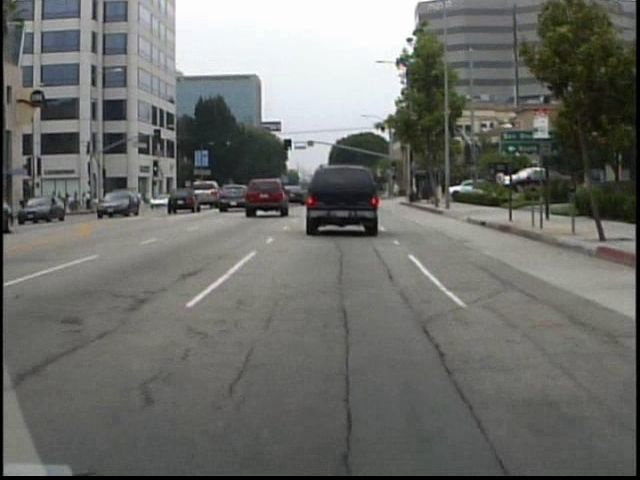person: (132, 187, 143, 209), (389, 181, 400, 202)
